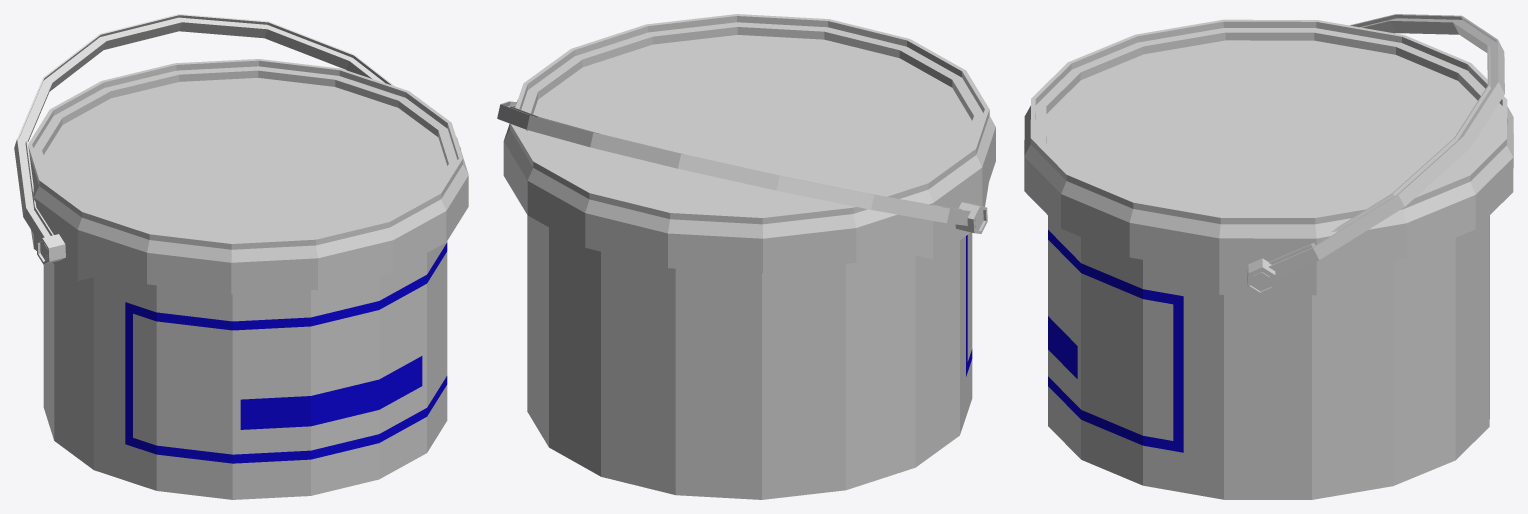
Rendered from SM_A_TIN_OF_PAINT_RED_CLOSED.glb.
3 views of the same model, side by side, from view 1: azimuth 30°, elevation 25°; view 2: azimuth 150°, elevation 25°; view 3: azimuth 270°, elevation 25° (orthographic). The views are drawn at different scales.
Visible parts, largest first — view 1: SM_A_TIN_OF_PAINT_RED_CLOSED; view 2: SM_A_TIN_OF_PAINT_RED_CLOSED; view 3: SM_A_TIN_OF_PAINT_RED_CLOSED.
Part boxes in pixels (x1,y1,x2,y2): SM_A_TIN_OF_PAINT_RED_CLOSED: (14,14,468,499); SM_A_TIN_OF_PAINT_RED_CLOSED: (497,14,995,499); SM_A_TIN_OF_PAINT_RED_CLOSED: (1024,14,1513,499).
Bounding box in the file's own units: 0.3455 × 0.252 × 0.3227.
